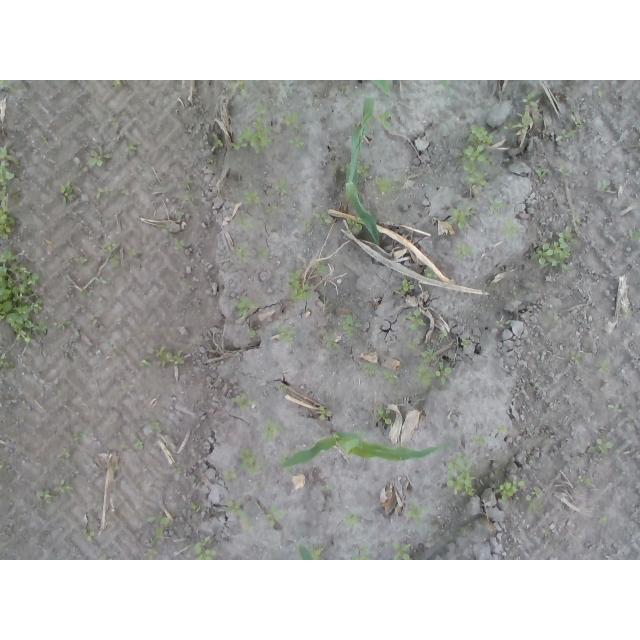Maize: (281, 429, 444, 468), (345, 123, 382, 245), (365, 80, 396, 97), (295, 544, 314, 560)
Weeds: (0, 247, 52, 345), (461, 123, 496, 194), (532, 225, 577, 272), (0, 145, 20, 246), (447, 448, 478, 497), (416, 351, 457, 386), (231, 127, 274, 156), (445, 200, 477, 232), (141, 346, 185, 368), (500, 110, 533, 136), (286, 268, 312, 300), (238, 446, 266, 475), (144, 515, 171, 545), (403, 497, 429, 528), (337, 308, 364, 337), (225, 500, 252, 528), (497, 479, 528, 502), (262, 415, 287, 442), (88, 144, 113, 168), (192, 536, 217, 560), (489, 191, 511, 218), (405, 308, 428, 333), (231, 389, 257, 411), (588, 438, 613, 458), (57, 181, 76, 207), (265, 503, 284, 529), (319, 332, 342, 353), (272, 325, 297, 344), (521, 86, 539, 111), (232, 80, 257, 97), (282, 110, 302, 131), (502, 217, 518, 243), (32, 488, 57, 504), (237, 296, 256, 317), (241, 190, 263, 208), (555, 128, 578, 145), (375, 407, 395, 426), (392, 541, 412, 560), (68, 429, 89, 447), (235, 244, 253, 265), (253, 101, 267, 127), (455, 243, 474, 262), (375, 175, 394, 193), (383, 369, 401, 387), (528, 495, 545, 514), (286, 134, 306, 150), (312, 211, 334, 225), (273, 176, 291, 193), (318, 404, 334, 423), (52, 319, 72, 334), (343, 511, 359, 529), (399, 278, 417, 294), (55, 479, 73, 495), (593, 179, 612, 194), (378, 111, 393, 130), (356, 159, 368, 182), (1, 351, 16, 369), (144, 419, 162, 434), (210, 131, 224, 150), (130, 432, 145, 449), (471, 432, 487, 447), (362, 361, 379, 375), (593, 81, 607, 98), (239, 216, 257, 229), (223, 466, 238, 481), (102, 239, 118, 253), (346, 219, 363, 232), (0, 79, 16, 92), (84, 527, 97, 543), (144, 548, 161, 560), (575, 475, 593, 486), (431, 330, 449, 341), (57, 448, 72, 461), (531, 165, 546, 178), (159, 224, 174, 237), (575, 351, 585, 370), (599, 360, 610, 377), (1, 457, 12, 474), (110, 255, 122, 270), (558, 167, 575, 177), (351, 552, 369, 561), (175, 280, 193, 289), (406, 337, 417, 351), (78, 288, 95, 297), (462, 335, 471, 352), (320, 484, 336, 493), (95, 186, 113, 194), (112, 80, 129, 88), (631, 226, 640, 241), (311, 548, 322, 560), (174, 239, 186, 250), (528, 382, 544, 390), (128, 143, 137, 157), (247, 327, 258, 338), (317, 263, 329, 273), (191, 500, 201, 512), (258, 247, 270, 257), (271, 384, 284, 393), (438, 80, 450, 89), (127, 247, 137, 257), (575, 119, 586, 128), (79, 256, 89, 265), (496, 426, 507, 434), (425, 272, 436, 279), (600, 516, 608, 525), (571, 104, 578, 113), (304, 222, 310, 230), (400, 334, 409, 339)
